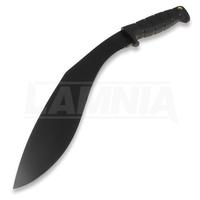knife: (11, 6, 185, 192)
